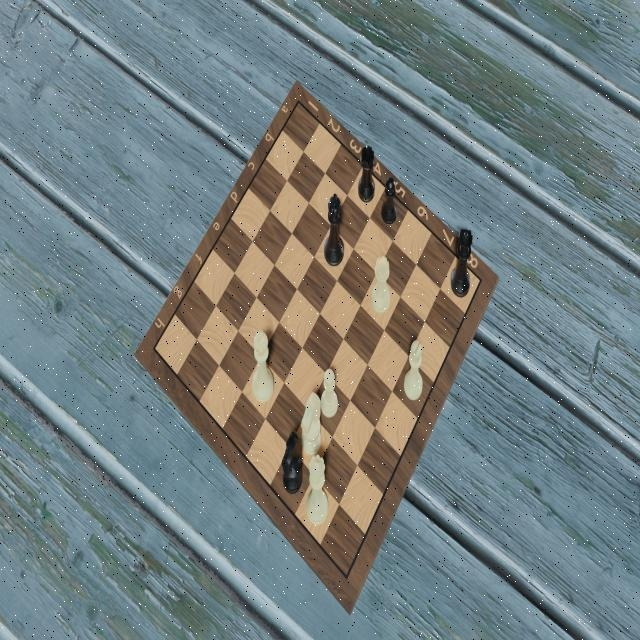black-king: (322, 189, 345, 268)
black-knight: (280, 426, 306, 498)
black-pawn: (380, 173, 399, 227)
black-queen: (449, 226, 473, 302)
black-rook: (358, 144, 378, 207)
white-bishop: (403, 338, 425, 402)
white-king: (251, 330, 275, 406)
white-knight: (299, 390, 324, 456)
white-pawn: (320, 366, 340, 421)
white-queen: (305, 449, 329, 529)
white-rook: (371, 252, 392, 315)
